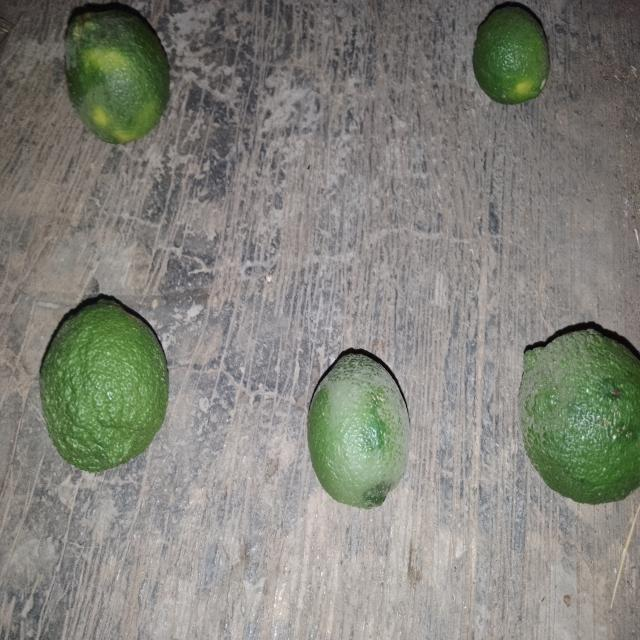Unripe: (37, 285, 171, 490), (511, 314, 640, 519), (46, 0, 196, 168), (296, 338, 422, 521), (462, 0, 563, 117)
